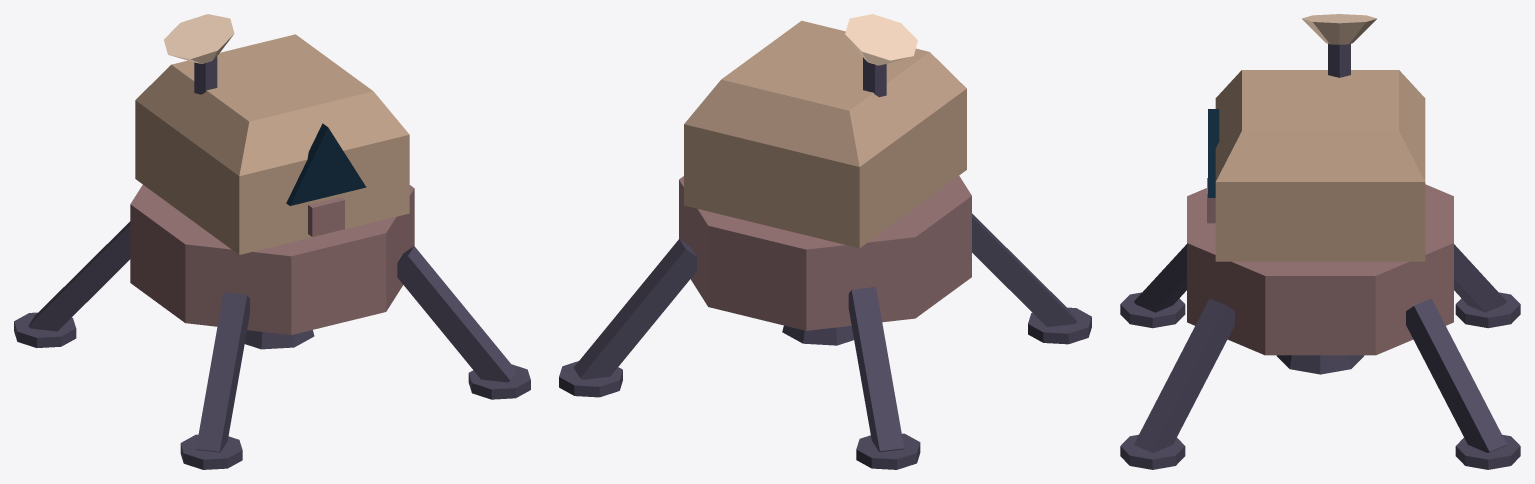
Rendered from lander.glb.
3 views of the same model, side by side, from view 1: azimuth 30°, elevation 25°; view 2: azimuth 150°, elevation 25°; view 3: azimuth 270°, elevation 25° (orthographic). The views are drawn at different scales.
Visible parts, largest first — view 1: Descent, Roof, Cabin, LegFL, LegFR, LegBR, Window, Dish, PadFR, PadBR, PadFL, Hatch (+2 smaller); view 2: Descent, Cabin, Roof, LegBL, LegBR, LegFR, Dish, PadBR, PadFR, PadBL, Nozzle, Mast; view 3: Descent, Roof, Cabin, LegBL, LegFL, LegBR, LegFR, Dish, PadBL, PadFL, PadBR, PadFR (+3 smaller).
Part boxes in pixels (x1=…): Descent: x1=130, y1=185, x2=414, y2=334; Roof: x1=135, y1=34, x2=409, y2=175; Cabin: x1=135, y1=100, x2=409, y2=254; LegFL: x1=397, y1=246, x2=516, y2=382; LegFR: x1=196, y1=292, x2=249, y2=452; LegBR: x1=28, y1=221, x2=130, y2=331; Window: x1=286, y1=123, x2=366, y2=205; Dish: x1=164, y1=14, x2=234, y2=63; PadFR: x1=180, y1=434, x2=242, y2=469; PadBR: x1=14, y1=312, x2=76, y2=347; PadFL: x1=468, y1=364, x2=530, y2=399; Hatch: x1=308, y1=197, x2=344, y2=236; Descent: x1=679, y1=176, x2=971, y2=330; Cabin: x1=684, y1=89, x2=966, y2=248; Roof: x1=684, y1=20, x2=966, y2=166; LegBL: x1=573, y1=239, x2=696, y2=379; LegBR: x1=848, y1=287, x2=904, y2=451; LegFR: x1=972, y1=213, x2=1077, y2=327; Dish: x1=845, y1=14, x2=917, y2=65; PadBR: x1=856, y1=433, x2=920, y2=469; PadFR: x1=1028, y1=307, x2=1091, y2=344; PadBL: x1=559, y1=361, x2=622, y2=397; Nozzle: x1=782, y1=325, x2=853, y2=345; Mast: x1=863, y1=57, x2=886, y2=97; Descent: x1=1187, y1=184, x2=1453, y2=355; Roof: x1=1215, y1=70, x2=1425, y2=181; Cabin: x1=1215, y1=182, x2=1425, y2=261; LegBL: x1=1406, y1=298, x2=1506, y2=452; LegFL: x1=1134, y1=298, x2=1234, y2=452; LegBR: x1=1454, y1=244, x2=1506, y2=312; LegFR: x1=1134, y1=244, x2=1186, y2=312; Dish: x1=1302, y1=14, x2=1377, y2=44; PadBL: x1=1455, y1=434, x2=1520, y2=469; PadFL: x1=1120, y1=434, x2=1185, y2=469; PadBR: x1=1455, y1=292, x2=1520, y2=328; PadFR: x1=1120, y1=292, x2=1185, y2=328.
Size of the model in its own units: 2.1 by 2.02 by 2.1.
